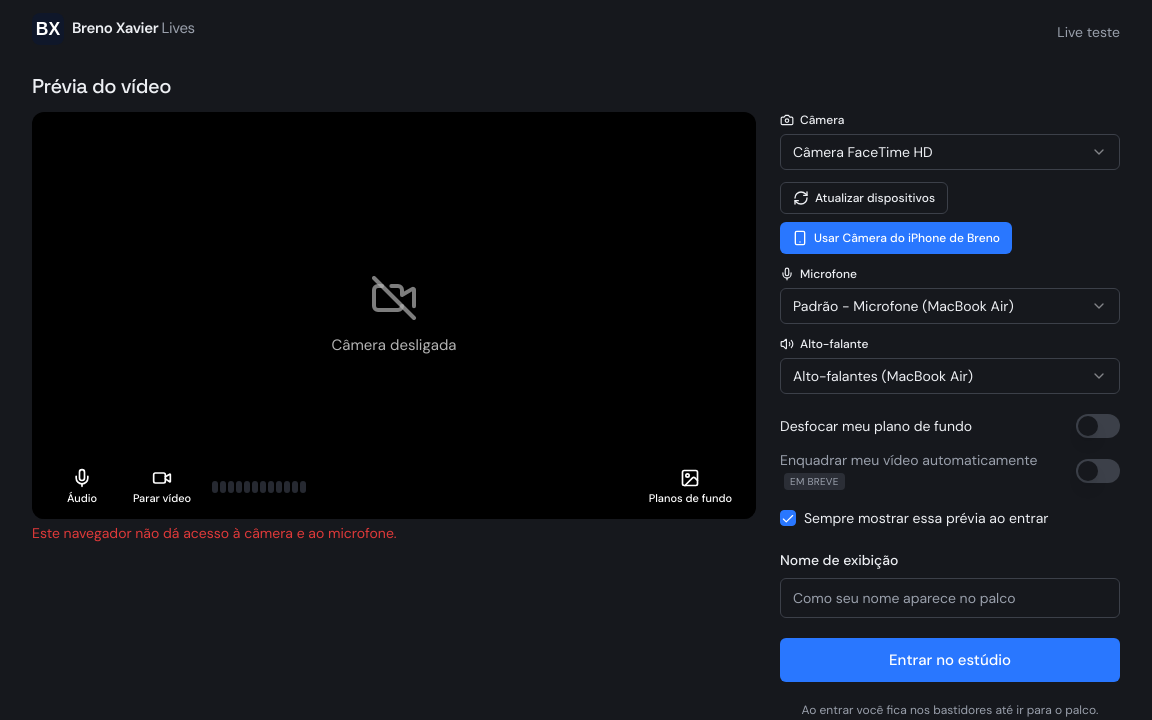
it: PreSala (prévia estilo Zoom) › mostra a prévia com Áudio, Vídeo, Planos de fundo, seletores com nome real e grava 'sempre mostrar'
This screenshot has width=1152, height=720.
Later steps or results of the test are not shown.
Expected: the heading "Prévia do vídeo" is shown, x1=32 y1=73 x2=171 y2=99
Expected: the button "Parar vídeo" is shown, x1=124 y1=463 x2=200 y2=511
Click the button "Áudio".
click(82, 487)  # box x1=44 y1=463 x2=120 y2=511
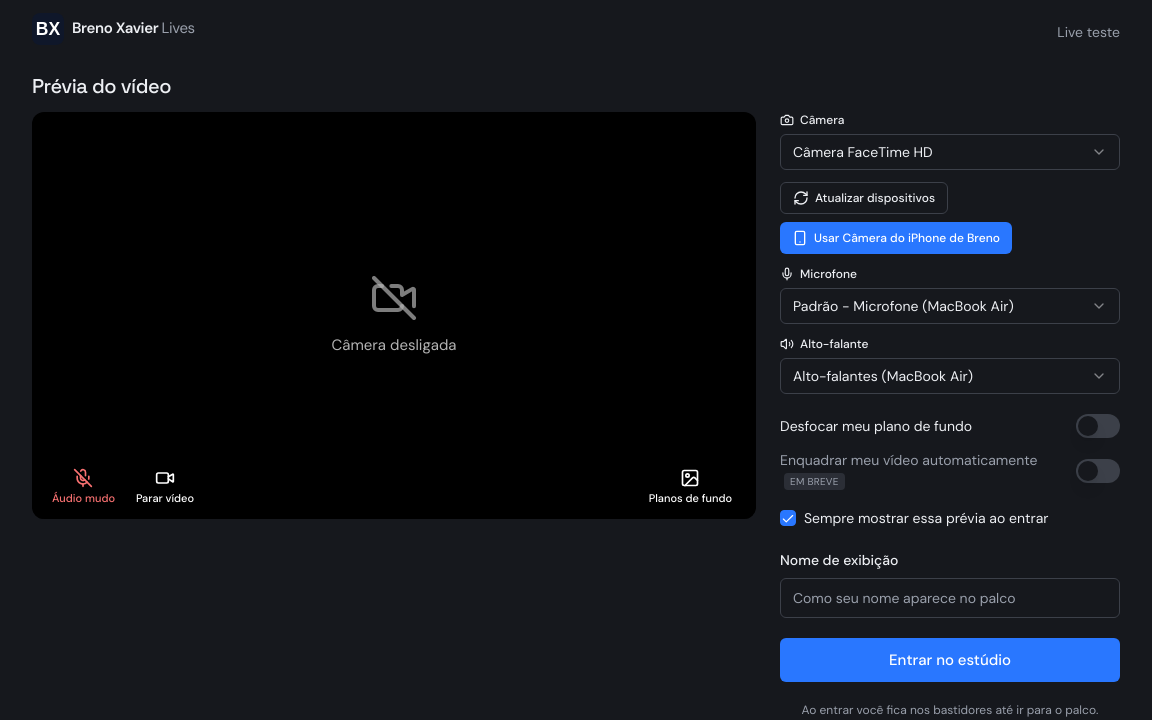
Expected: the button "Áudio mudo" is shown, x1=44 y1=463 x2=123 y2=511
